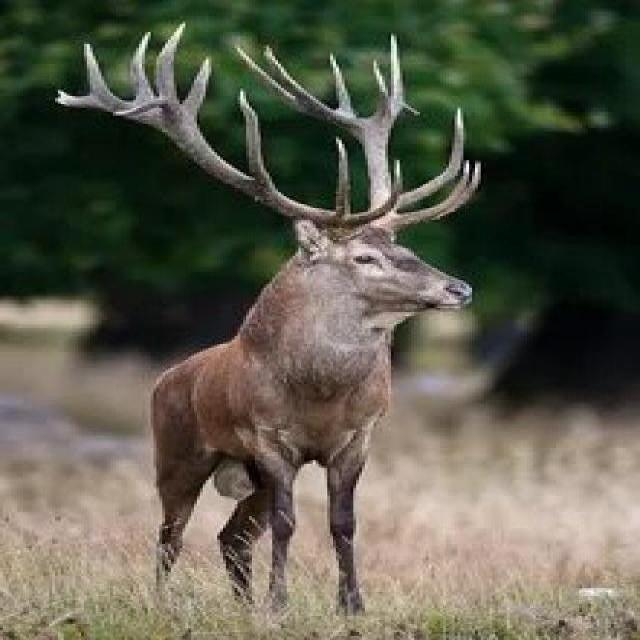deer: (43, 6, 618, 603)
